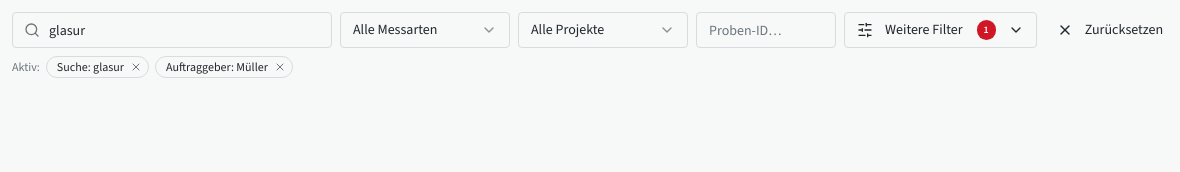
Scenario: ResultsFilterBar › entfernt einen einzelnen Filter über seinen Chip
Click the button named "Filter Auftraggeber: Müller entfernen" at (280, 67), box [272,59,288,75]
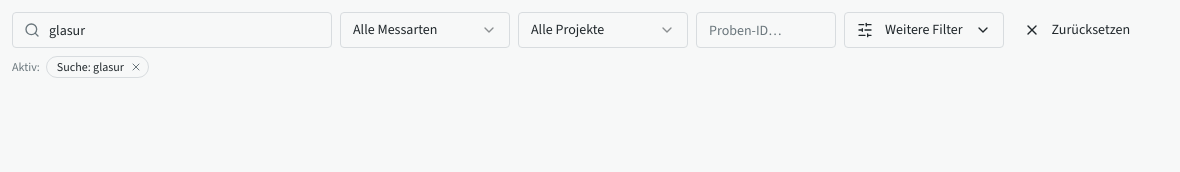
expect the text "Suche: glasur" is shown: met, box [46,56,149,78]
expect the text "Auftraggeber: Müller" is gone: met
